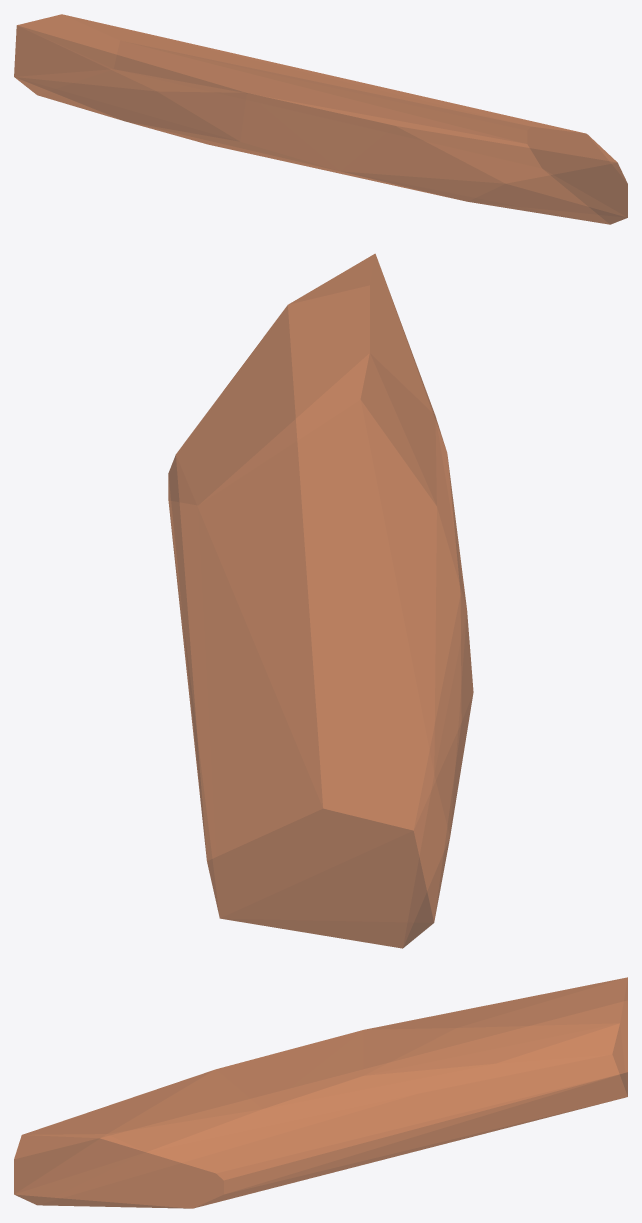
The picture shows the model from 3 angles, top to bottom: view 1: azimuth 30°, elevation 25°; view 2: azimuth 150°, elevation 25°; view 3: azimuth 270°, elevation 25°; orthographic projection. The views are drawn at different scales.
Visible parts, largest first — view 1: Shape_IndexedFaceSet.038_Shape_IndexedFaceSet.6301; view 2: Shape_IndexedFaceSet.038_Shape_IndexedFaceSet.6301; view 3: Shape_IndexedFaceSet.038_Shape_IndexedFaceSet.6301.
Part boxes in pixels (bbox=[...]): Shape_IndexedFaceSet.038_Shape_IndexedFaceSet.6301: bbox=[14, 14, 627, 224]; Shape_IndexedFaceSet.038_Shape_IndexedFaceSet.6301: bbox=[168, 253, 473, 948]; Shape_IndexedFaceSet.038_Shape_IndexedFaceSet.6301: bbox=[14, 977, 627, 1208].
Bounding box in the file's own units: 0.1188 × 0.0238 × 0.1877.
